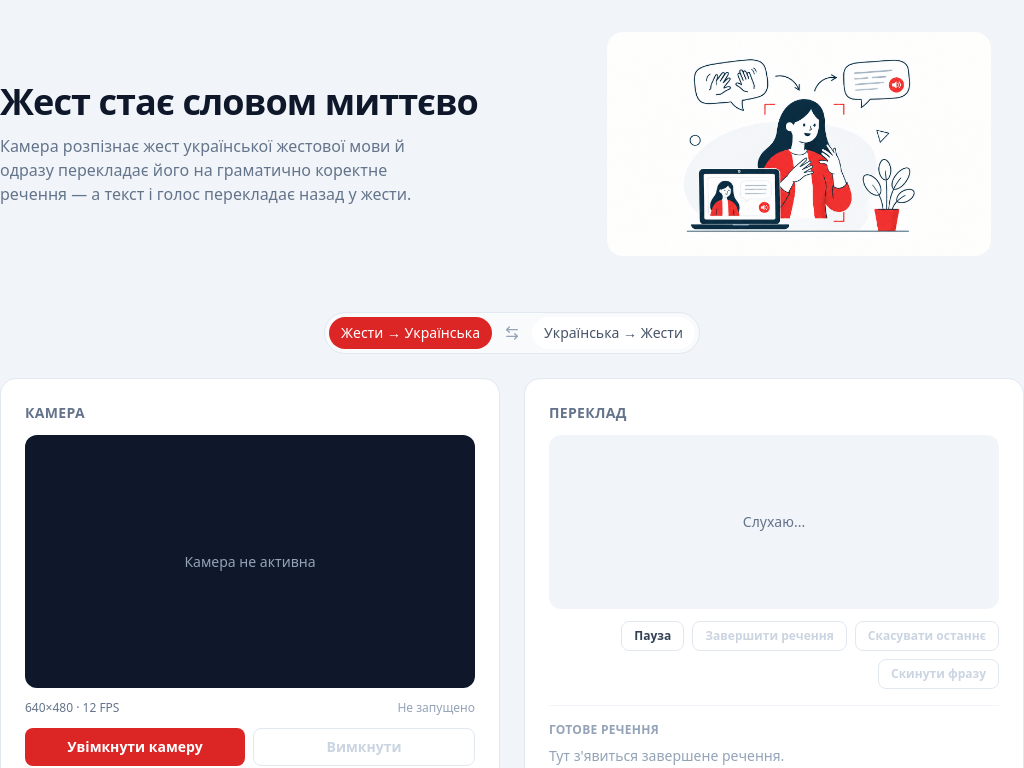
Scenario: TranslatorView › translates typed text into a real Ukrainian sentence via the Phase 14 API, never the internal gloss codes
Click the button "Українська → Жести" at (614, 333), box [532,317,695,349]
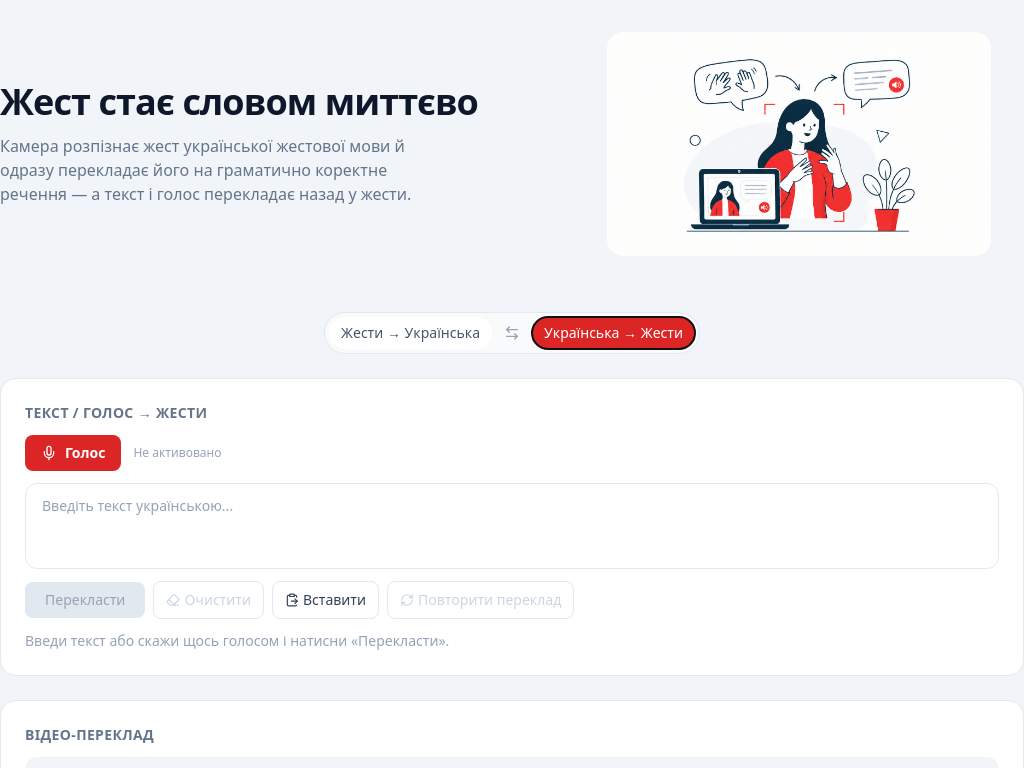
Type "Я хочу води." into the text box with placeholder "Введіть текст українською..." at (512, 526), box [25,483,999,569]
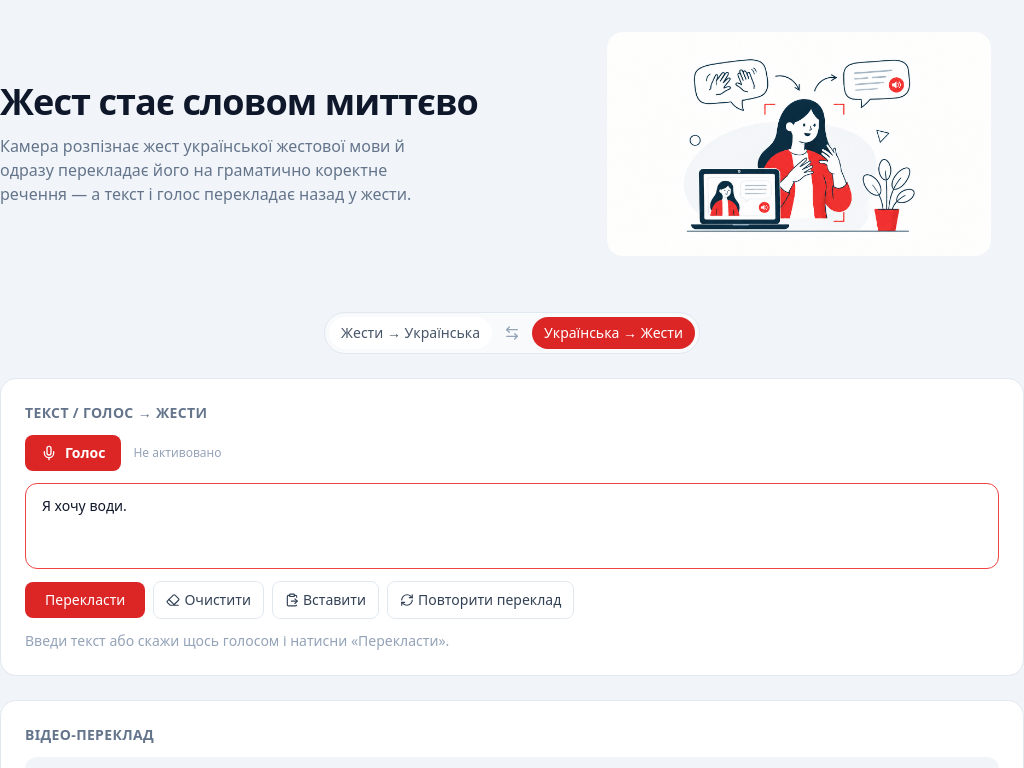
Click the button "Перекласти" at (85, 600), box [25,582,145,618]
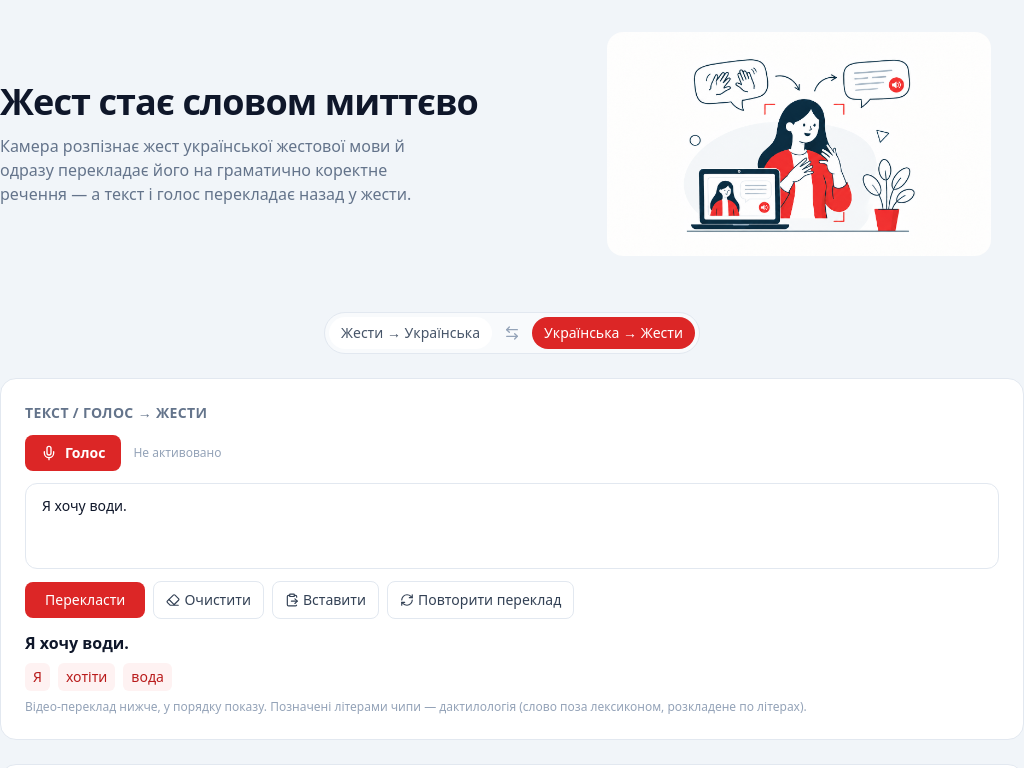
expect the text "хотіти" is shown: met, box [58,663,115,691]
expect the text "вода" is shown: met, box [123,663,172,691]
